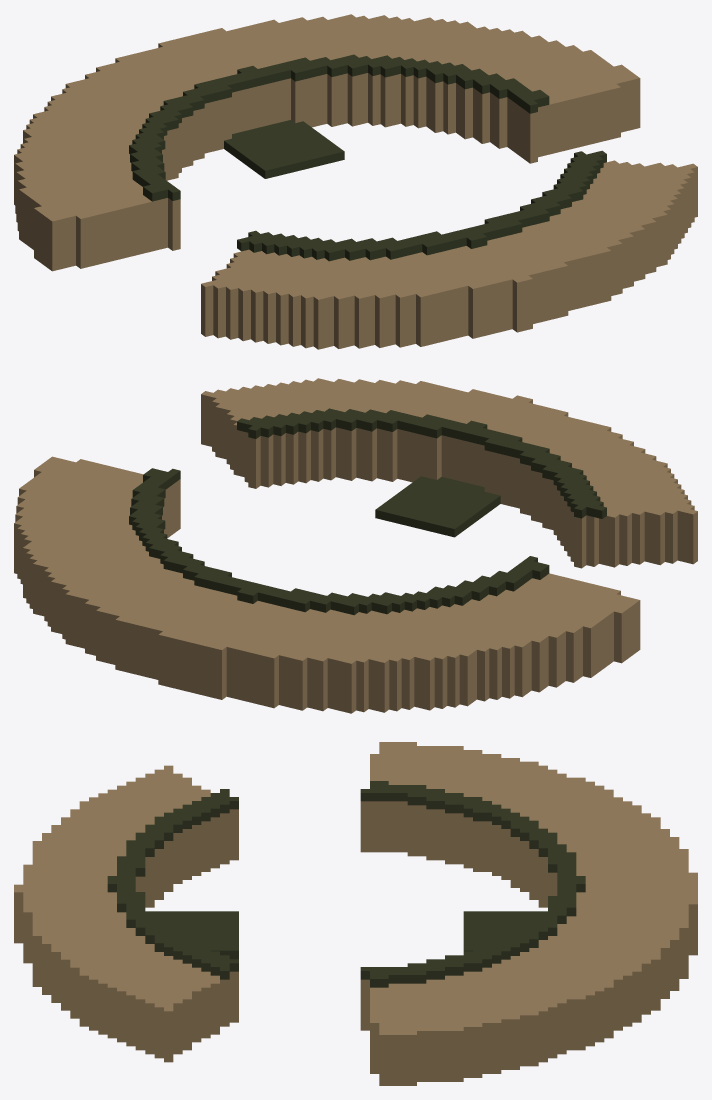
Rendered from ballistic_collar.glb.
The picture shows the model from 3 angles, top to bottom: view 1: azimuth 30°, elevation 25°; view 2: azimuth 150°, elevation 25°; view 3: azimuth 270°, elevation 25°; orthographic projection. The views are drawn at different scales.
Parts seen in each view (by area): view 1: ballistic_collar:compound; view 2: ballistic_collar:compound; view 3: ballistic_collar:compound.
Boxes of the visible parts, box(x1,y1,x2,y2) form: ballistic_collar:compound: box(14, 14, 697, 349); ballistic_collar:compound: box(14, 378, 697, 713); ballistic_collar:compound: box(14, 742, 697, 1085).
Size of the model in its own units: 0.296 by 0.028 by 0.292.
